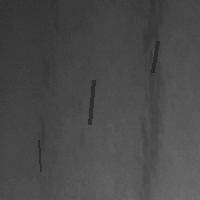inclusion: (136, 1, 171, 199), (38, 52, 59, 86), (33, 115, 51, 152), (87, 78, 95, 126), (150, 39, 159, 74), (36, 138, 42, 173)
